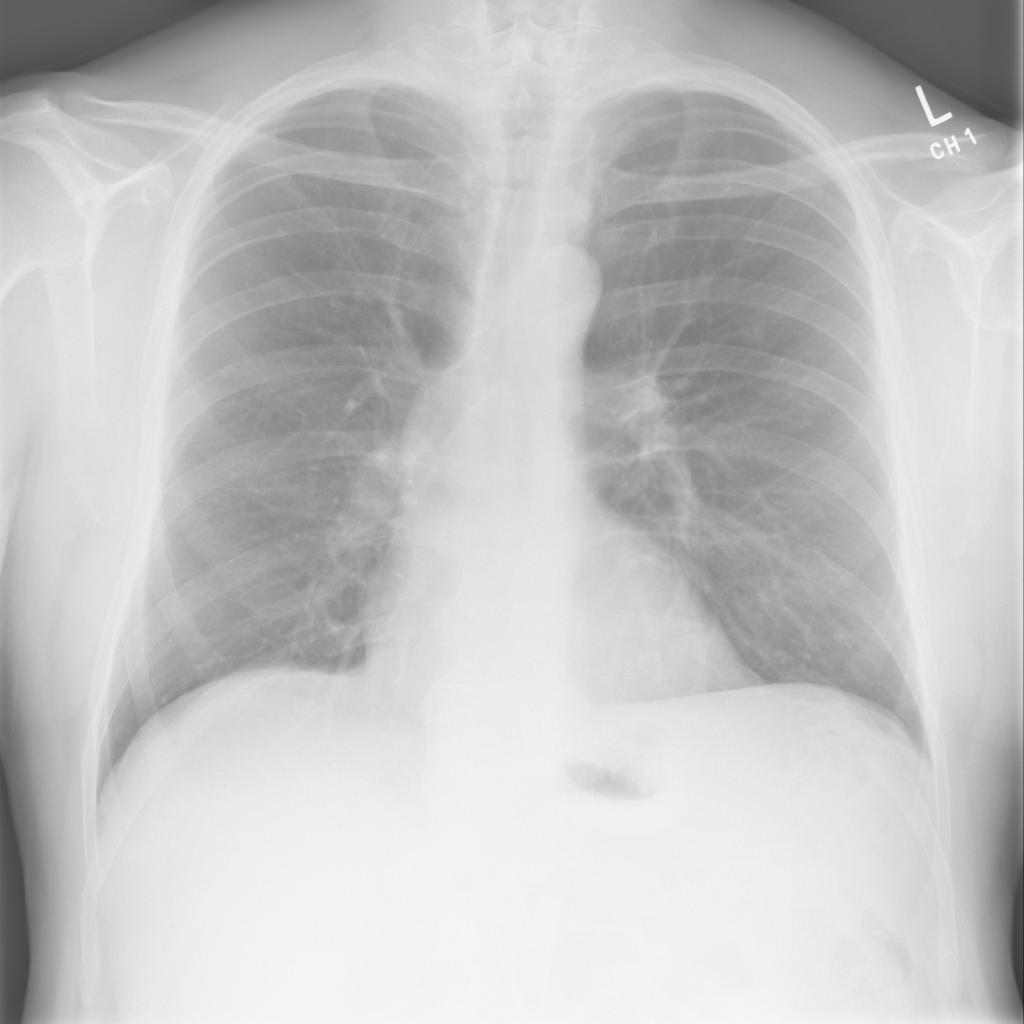Nodule: (64, 63, 86, 96)
